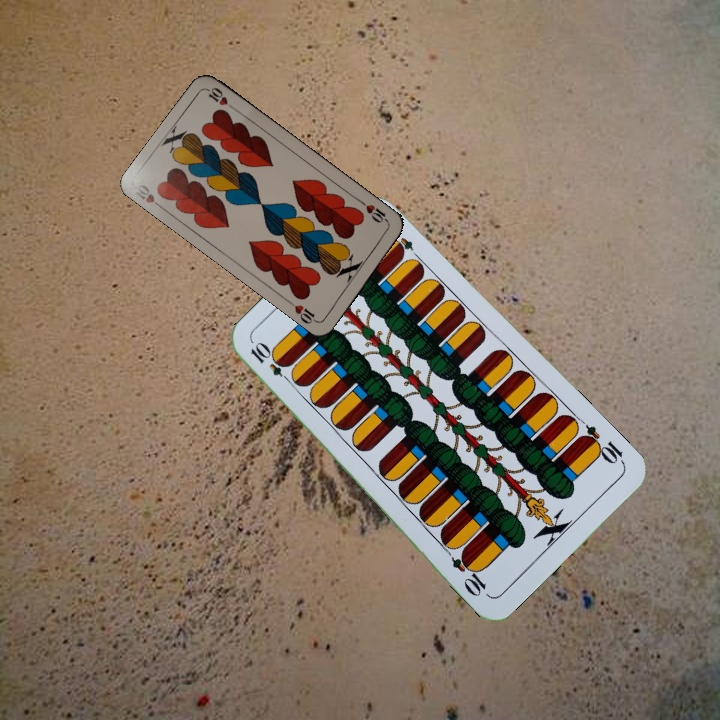E10: (575, 421, 628, 468), (246, 339, 296, 387)
H10: (131, 180, 167, 213), (357, 197, 391, 226)
